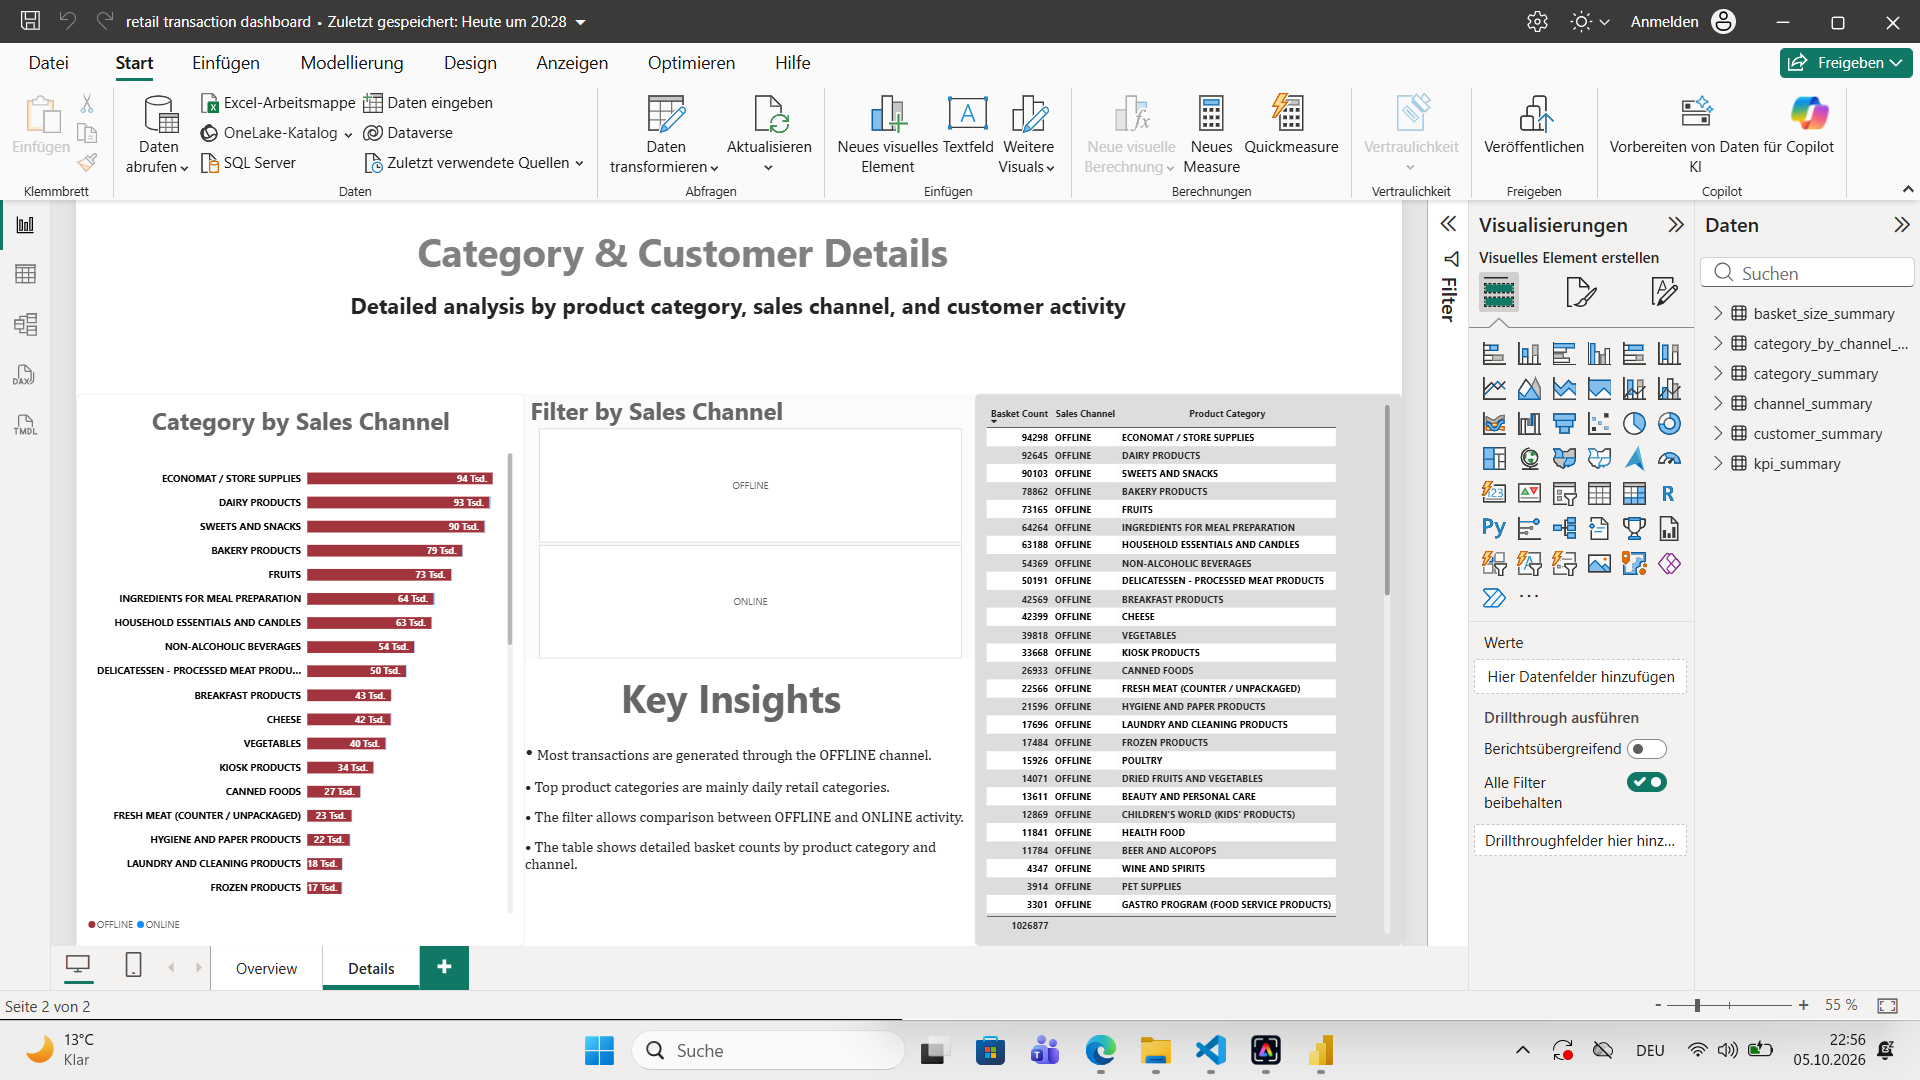

The dashboard page shown, as its layout file describes it:
{"tool":"powerbi","page":{"name":"Details","canvas":[1920,1080],"ordinal":1},"visuals":[{"type":"textbox","box":[0,0,1920.1,280.5],"z":0},{"type":"textbox","box":[821.6,289.5,1098.5,280.5],"z":1},{"type":"barChart","title":"Category by Sales Channel","fields":{"Category":["category_by_channel_summary.PRODUCT_CATEGORY"],"Series":["category_by_channel_summary.CHANNEL"],"Y":["Sum(category_by_channel_summary.basket_count)"]},"box":[0,280.5,649.7,799.9],"z":2},{"type":"slicer","fields":{"Values":["category_by_channel_summary.CHANNEL"]},"box":[649.7,280.5,651.5,385.5],"z":3},{"type":"tableEx","fields":{"Values":["Sum(category_by_channel_summary.basket_count)","category_by_channel_summary.CHANNEL","category_by_channel_summary.PRODUCT_CATEGORY"]},"box":[1301.1,280.5,618.9,799.9],"z":4},{"type":"textbox","box":[650,665,651,415],"z":5}]}

Visuals, with their boxes on the page's 1920x1080 design canvas (x1, y1, x2, y2). These are canvas units, not pixel positions in the 1920x1080 screenshot, which may show the page scaled, cropped or inside an application window:
textbox: Rect(0, 0, 1920, 280)
textbox: Rect(822, 290, 1920, 570)
"Category by Sales Channel" barChart: Rect(0, 280, 650, 1080)
slicer - category_by_channel_summary.CHANNEL: Rect(650, 280, 1301, 666)
tableEx - Sum(category_by_channel_summary.basket_count) x category_by_channel_summary.CHANNEL: Rect(1301, 280, 1920, 1080)
textbox: Rect(650, 665, 1301, 1080)
